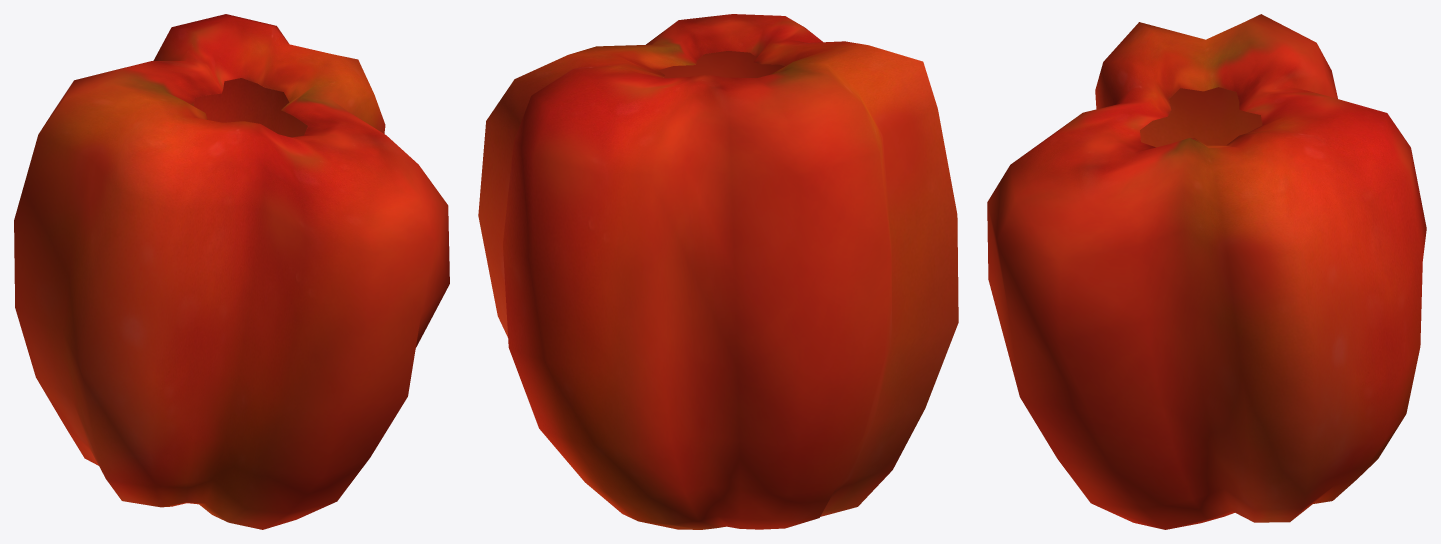
Rendered from VG07_6_one_fruit_fruitonly.dae.
The picture shows the model from 3 angles, left to right: view 1: azimuth 30°, elevation 25°; view 2: azimuth 150°, elevation 25°; view 3: azimuth 270°, elevation 25°; orthographic projection. The views are drawn at different scales.
Visible parts, largest first — view 1: VG07_021; view 2: VG07_021; view 3: VG07_021.
Part boxes in pixels (x1=…): VG07_021: x1=14, y1=14, x2=449, y2=529; VG07_021: x1=478, y1=14, x2=958, y2=529; VG07_021: x1=987, y1=14, x2=1426, y2=529.
Size of the model in its own units: 0.0783 by 0.0809 by 0.0899.
